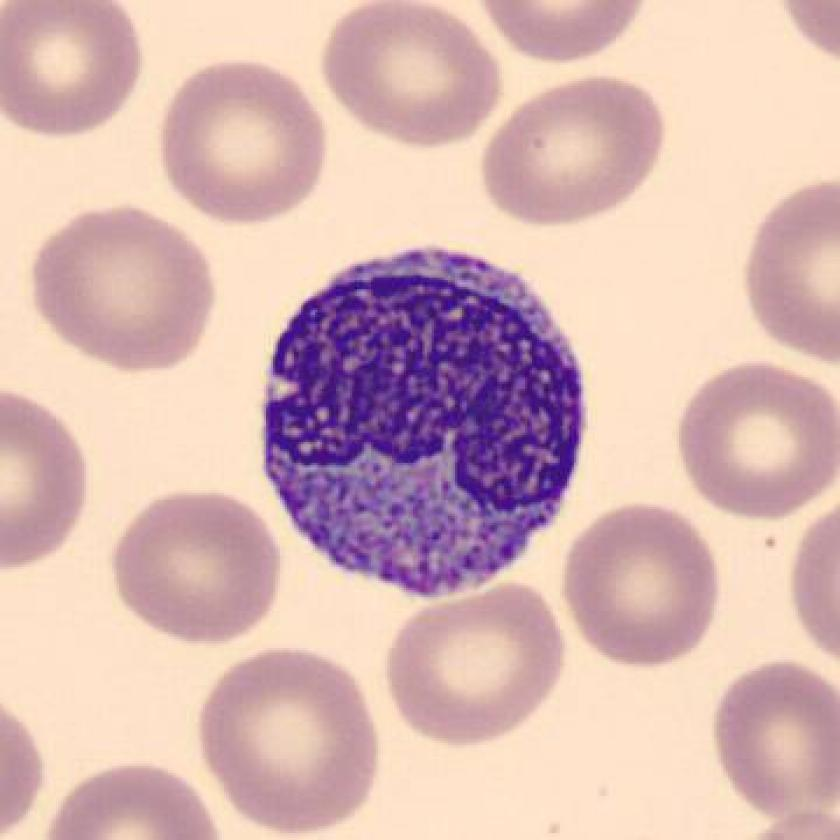monocyte: (244, 230, 612, 614)
